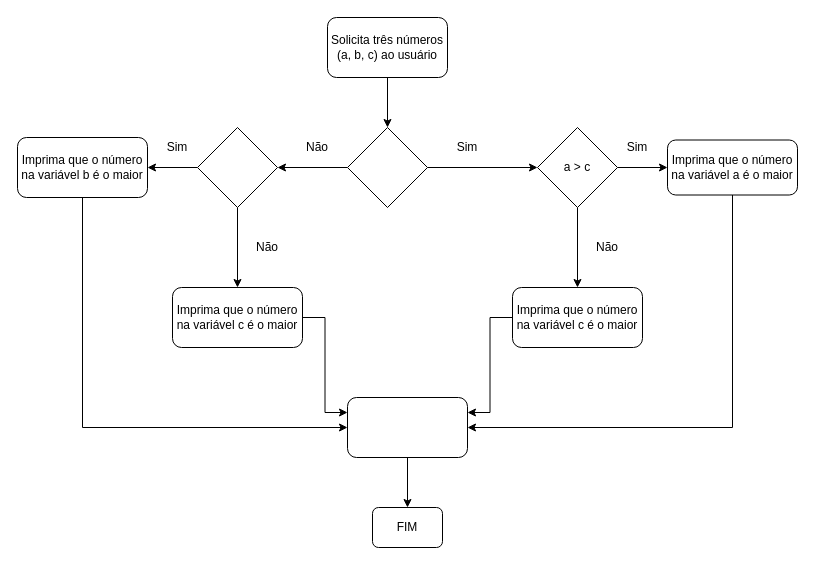
This 815x565 diagram has some shape labels left out. The shapes that lost their labels are listed below. From the top down, each one's centre as x and y in pixels, then its label:
At [237,167]: "b > c".
At [387,167]: "a > b".
At [407,427]: "Imprima a soma dos três números".
